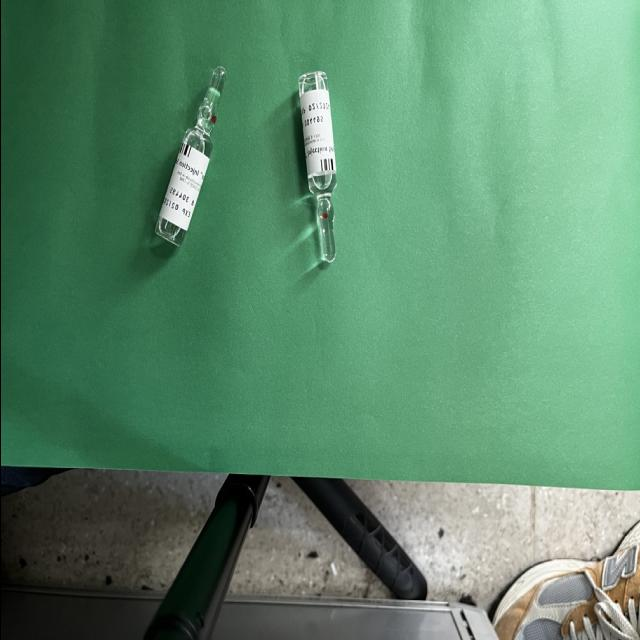Ampoules: (154, 67, 224, 247), (298, 71, 336, 263)
